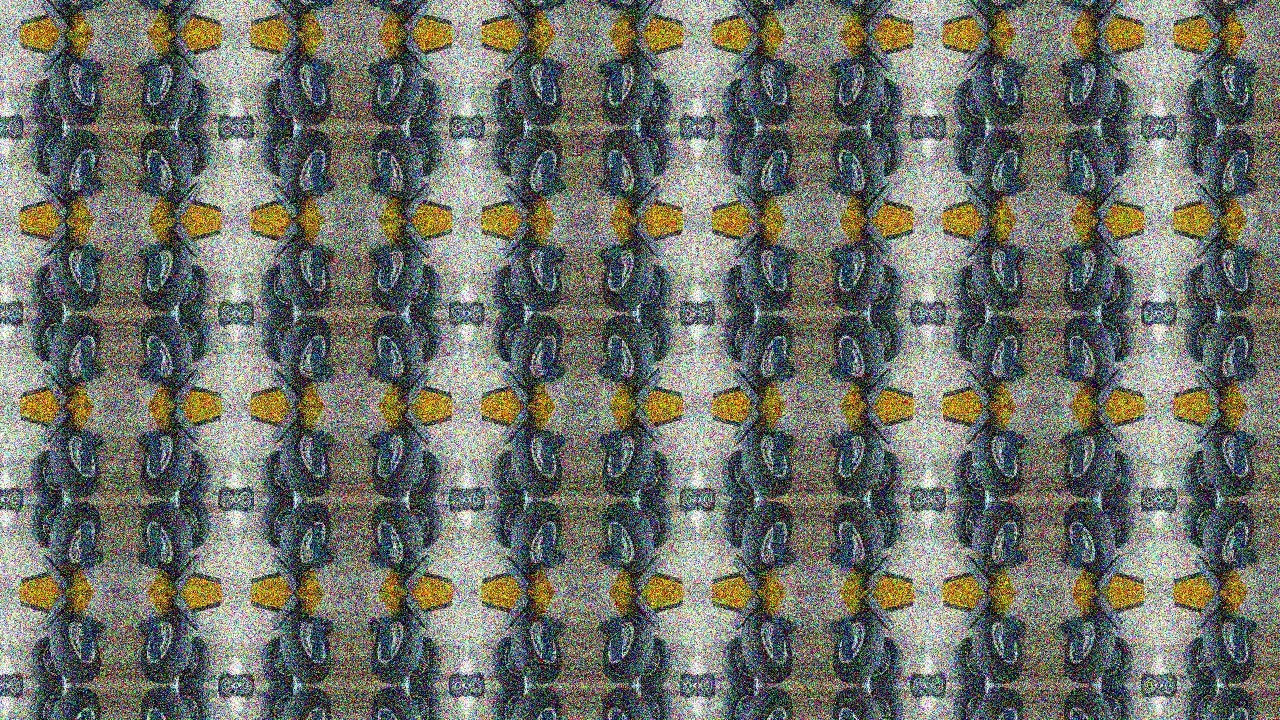chock: (501, 33, 534, 73), (630, 33, 663, 73), (1195, 33, 1228, 73), (501, 180, 534, 220), (630, 180, 663, 220), (1195, 180, 1228, 220), (501, 220, 534, 260), (630, 220, 663, 260), (1195, 220, 1228, 260), (501, 367, 534, 407), (630, 367, 663, 407), (1195, 367, 1228, 407), (501, 407, 534, 447), (630, 407, 663, 447), (1195, 407, 1228, 447), (501, 553, 534, 593), (630, 553, 663, 593), (1195, 553, 1228, 593), (501, 593, 534, 633), (630, 593, 663, 633), (1195, 593, 1228, 633), (39, 33, 71, 73), (168, 33, 200, 73), (270, 33, 302, 73), (399, 33, 431, 73), (733, 33, 765, 73), (862, 33, 894, 73), (964, 33, 996, 73), (1093, 33, 1125, 73), (39, 180, 71, 220), (168, 180, 200, 220), (270, 180, 302, 220), (399, 180, 431, 220), (733, 180, 765, 220), (862, 180, 894, 220), (964, 180, 996, 220), (1093, 180, 1125, 220), (39, 220, 71, 260), (168, 220, 200, 260), (270, 220, 302, 260), (399, 220, 431, 260), (733, 220, 765, 260), (862, 220, 894, 260), (964, 220, 996, 260), (1093, 220, 1125, 260), (39, 367, 71, 407), (168, 367, 200, 407), (270, 367, 302, 407), (399, 367, 431, 407), (733, 367, 765, 407), (862, 367, 894, 407), (964, 367, 996, 407), (1093, 367, 1125, 407), (39, 407, 71, 447), (168, 407, 200, 447), (270, 407, 302, 447), (399, 407, 431, 447), (733, 407, 765, 447), (862, 407, 894, 447), (964, 407, 996, 447), (1093, 407, 1125, 447), (39, 553, 71, 593), (168, 553, 200, 593), (270, 553, 302, 593), (399, 553, 431, 593), (733, 553, 765, 593), (862, 553, 894, 593), (964, 553, 996, 593), (1093, 553, 1125, 593), (39, 593, 71, 633), (168, 593, 200, 633), (270, 593, 302, 633), (399, 593, 431, 633), (733, 593, 765, 633), (862, 593, 894, 633), (964, 593, 996, 633), (1093, 593, 1125, 633), (501, 0, 534, 33), (630, 0, 663, 33), (1195, 0, 1228, 33), (39, 0, 71, 33), (168, 0, 200, 33), (270, 0, 302, 33), (399, 0, 431, 33), (733, 0, 765, 33), (862, 0, 894, 33), (964, 0, 996, 33), (1093, 0, 1125, 33), (80, 60, 103, 81), (367, 60, 390, 81), (543, 60, 566, 81), (598, 60, 621, 81), (774, 60, 797, 81), (1061, 60, 1084, 81), (1237, 60, 1260, 81), (80, 359, 103, 380), (367, 359, 390, 380), (543, 359, 566, 380), (598, 359, 621, 380), (774, 359, 797, 380), (1061, 359, 1084, 380), (1237, 359, 1260, 380), (80, 620, 103, 641), (367, 620, 390, 641), (543, 620, 566, 641), (598, 620, 621, 641), (774, 620, 797, 641), (1061, 620, 1084, 641), (1237, 620, 1260, 641), (136, 60, 158, 81), (312, 60, 334, 81), (830, 60, 852, 81), (1006, 60, 1028, 81), (136, 359, 158, 380), (312, 359, 334, 380), (830, 359, 852, 380), (1006, 359, 1028, 380), (136, 620, 158, 641), (312, 620, 334, 641), (830, 620, 852, 641), (1006, 620, 1028, 641), (80, 173, 103, 193), (367, 173, 390, 193), (543, 173, 566, 193), (598, 173, 621, 193), (774, 173, 797, 193), (1061, 173, 1084, 193), (1237, 173, 1260, 193), (80, 247, 103, 267), (367, 247, 390, 267), (543, 247, 566, 267), (598, 247, 621, 267), (774, 247, 797, 267), (1061, 247, 1084, 267), (1237, 247, 1260, 267), (80, 434, 103, 454), (367, 434, 390, 454), (543, 434, 566, 454), (598, 434, 621, 454), (774, 434, 797, 454), (1061, 434, 1084, 454), (1237, 434, 1260, 454), (80, 546, 103, 566), (367, 546, 390, 566), (543, 546, 566, 566), (598, 546, 621, 566), (774, 546, 797, 566), (1061, 546, 1084, 566), (1237, 546, 1260, 566), (136, 173, 158, 193), (312, 173, 334, 193), (830, 173, 852, 193), (1006, 173, 1028, 193), (136, 247, 158, 267), (312, 247, 334, 267), (830, 247, 852, 267), (1006, 247, 1028, 267), (136, 434, 158, 454), (312, 434, 334, 454), (830, 434, 852, 454), (1006, 434, 1028, 454), (136, 546, 158, 566), (312, 546, 334, 566), (830, 546, 852, 566), (1006, 546, 1028, 566), (80, 0, 103, 6), (367, 0, 390, 6), (543, 0, 566, 6), (598, 0, 621, 6), (774, 0, 797, 6), (1061, 0, 1084, 6), (1237, 0, 1260, 6), (136, 0, 158, 6), (312, 0, 334, 6), (830, 0, 852, 6), (1006, 0, 1028, 6), (0, 132, 4, 139), (466, 132, 470, 139), (694, 132, 698, 139), (1160, 132, 1164, 139), (0, 301, 4, 308), (466, 301, 470, 308), (694, 301, 698, 308), (1160, 301, 1164, 308), (0, 692, 4, 699), (466, 692, 470, 699), (694, 692, 698, 699), (1160, 692, 1164, 699), (0, 115, 4, 121), (466, 115, 470, 121), (694, 115, 698, 121), (1160, 115, 1164, 121), (0, 319, 4, 325), (466, 319, 470, 325), (694, 319, 698, 325), (1160, 319, 1164, 325), (0, 488, 4, 494), (466, 488, 470, 494), (694, 488, 698, 494), (1160, 488, 1164, 494), (0, 506, 4, 512), (466, 506, 470, 512), (694, 506, 698, 512), (1160, 506, 1164, 512), (0, 675, 4, 681), (466, 675, 470, 681), (694, 675, 698, 681), (1160, 675, 1164, 681), (4, 132, 7, 139), (232, 132, 235, 139), (235, 132, 238, 139), (463, 132, 466, 139), (698, 132, 701, 139), (926, 132, 929, 139), (929, 132, 932, 139), (1157, 132, 1160, 139), (4, 301, 7, 308), (232, 301, 235, 308), (235, 301, 238, 308), (463, 301, 466, 308), (698, 301, 701, 308), (926, 301, 929, 308), (929, 301, 932, 308), (1157, 301, 1160, 308), (4, 692, 7, 699), (232, 692, 235, 699), (235, 692, 238, 699), (463, 692, 466, 699), (698, 692, 701, 699), (926, 692, 929, 699), (929, 692, 932, 699), (1157, 692, 1160, 699), (4, 115, 7, 121), (232, 115, 235, 121), (235, 115, 238, 121), (463, 115, 466, 121), (698, 115, 701, 121), (926, 115, 929, 121), (929, 115, 932, 121), (1157, 115, 1160, 121), (4, 319, 7, 325), (232, 319, 235, 325), (235, 319, 238, 325), (463, 319, 466, 325), (698, 319, 701, 325), (926, 319, 929, 325), (929, 319, 932, 325), (1157, 319, 1160, 325), (4, 488, 7, 494), (232, 488, 235, 494), (235, 488, 238, 494), (463, 488, 466, 494), (698, 488, 701, 494), (926, 488, 929, 494), (929, 488, 932, 494), (1157, 488, 1160, 494), (4, 506, 7, 512), (232, 506, 235, 512), (235, 506, 238, 512), (463, 506, 466, 512), (698, 506, 701, 512), (926, 506, 929, 512), (929, 506, 932, 512), (1157, 506, 1160, 512), (4, 675, 7, 681), (232, 675, 235, 681), (235, 675, 238, 681), (463, 675, 466, 681), (698, 675, 701, 681), (926, 675, 929, 681), (929, 675, 932, 681), (1157, 675, 1160, 681)
wheel: (48, 426, 102, 498), (368, 426, 422, 498), (742, 426, 796, 498), (1062, 426, 1116, 498), (48, 502, 102, 574), (368, 502, 422, 574), (742, 502, 796, 574), (1062, 502, 1116, 574), (48, 53, 102, 124), (368, 53, 422, 124), (742, 53, 796, 124), (1062, 53, 1116, 124), (48, 129, 102, 200), (368, 129, 422, 200), (742, 129, 796, 200), (1062, 129, 1116, 200), (48, 240, 102, 311), (368, 240, 422, 311), (742, 240, 796, 311), (1062, 240, 1116, 311), (48, 316, 102, 387), (368, 316, 422, 387), (742, 316, 796, 387), (1062, 316, 1116, 387), (48, 613, 102, 684), (368, 613, 422, 684), (742, 613, 796, 684), (1062, 613, 1116, 684), (137, 426, 190, 498), (280, 426, 333, 498), (511, 426, 564, 498), (600, 426, 653, 498), (831, 426, 884, 498), (974, 426, 1027, 498), (1205, 426, 1258, 498), (137, 502, 190, 574), (280, 502, 333, 574), (511, 502, 564, 574), (600, 502, 653, 574), (831, 502, 884, 574), (974, 502, 1027, 574), (1205, 502, 1258, 574), (137, 53, 190, 124), (280, 53, 333, 124), (511, 53, 564, 124), (600, 53, 653, 124), (831, 53, 884, 124), (974, 53, 1027, 124), (1205, 53, 1258, 124), (137, 129, 190, 200), (280, 129, 333, 200), (511, 129, 564, 200), (600, 129, 653, 200), (831, 129, 884, 200), (974, 129, 1027, 200), (1205, 129, 1258, 200), (137, 240, 190, 311), (280, 240, 333, 311), (511, 240, 564, 311), (600, 240, 653, 311), (831, 240, 884, 311), (974, 240, 1027, 311), (1205, 240, 1258, 311), (137, 316, 190, 387), (280, 316, 333, 387), (511, 316, 564, 387), (600, 316, 653, 387), (831, 316, 884, 387), (974, 316, 1027, 387), (1205, 316, 1258, 387), (137, 613, 190, 684), (280, 613, 333, 684), (511, 613, 564, 684), (600, 613, 653, 684), (831, 613, 884, 684), (974, 613, 1027, 684), (1205, 613, 1258, 684), (174, 77, 211, 127), (259, 77, 296, 127), (490, 77, 527, 127), (637, 77, 674, 127), (868, 77, 905, 127), (953, 77, 990, 127), (1184, 77, 1221, 127), (174, 127, 211, 177), (259, 127, 296, 177), (490, 127, 527, 177), (637, 127, 674, 177), (868, 127, 905, 177), (953, 127, 990, 177), (1184, 127, 1221, 177), (174, 263, 211, 313), (259, 263, 296, 313), (490, 263, 527, 313), (637, 263, 674, 313), (868, 263, 905, 313), (953, 263, 990, 313), (1184, 263, 1221, 313), (174, 313, 211, 363), (259, 313, 296, 363), (490, 313, 527, 363), (637, 313, 674, 363), (868, 313, 905, 363), (953, 313, 990, 363), (1184, 313, 1221, 363), (174, 450, 211, 500), (259, 450, 296, 500), (490, 450, 527, 500), (637, 450, 674, 500), (868, 450, 905, 500), (953, 450, 990, 500), (1184, 450, 1221, 500), (174, 500, 211, 550), (259, 500, 296, 550), (490, 500, 527, 550), (637, 500, 674, 550), (868, 500, 905, 550), (953, 500, 990, 550), (1184, 500, 1221, 550), (174, 637, 211, 687), (259, 637, 296, 687), (490, 637, 527, 687), (637, 637, 674, 687), (868, 637, 905, 687), (953, 637, 990, 687), (1184, 637, 1221, 687), (28, 77, 64, 127), (406, 77, 442, 127), (722, 77, 758, 127), (1100, 77, 1136, 127), (28, 127, 64, 177), (406, 127, 442, 177), (722, 127, 758, 177), (1100, 127, 1136, 177), (28, 263, 64, 313), (406, 263, 442, 313), (722, 263, 758, 313), (1100, 263, 1136, 313), (28, 313, 64, 363), (406, 313, 442, 363), (722, 313, 758, 363), (1100, 313, 1136, 363), (28, 450, 64, 500), (406, 450, 442, 500), (722, 450, 758, 500), (1100, 450, 1136, 500), (28, 500, 64, 550), (406, 500, 442, 550), (722, 500, 758, 550), (1100, 500, 1136, 550), (28, 637, 64, 687), (406, 637, 442, 687), (722, 637, 758, 687), (1100, 637, 1136, 687), (48, 689, 102, 720), (368, 689, 422, 720), (742, 689, 796, 720), (1062, 689, 1116, 720), (137, 689, 190, 720), (280, 689, 333, 720), (511, 689, 564, 720), (600, 689, 653, 720), (831, 689, 884, 720), (974, 689, 1027, 720), (1205, 689, 1258, 720), (174, 687, 211, 720), (259, 687, 296, 720), (490, 687, 527, 720), (637, 687, 674, 720), (868, 687, 905, 720), (953, 687, 990, 720), (1184, 687, 1221, 720), (28, 687, 64, 720), (406, 687, 442, 720), (722, 687, 758, 720), (1100, 687, 1136, 720), (48, 0, 102, 14), (368, 0, 422, 14), (742, 0, 796, 14), (1062, 0, 1116, 14), (137, 0, 190, 14), (280, 0, 333, 14), (511, 0, 564, 14), (600, 0, 653, 14), (831, 0, 884, 14), (974, 0, 1027, 14), (1205, 0, 1258, 14), (216, 115, 235, 127), (235, 115, 254, 127), (466, 115, 485, 127), (679, 115, 698, 127), (910, 115, 929, 127), (929, 115, 948, 127), (1160, 115, 1179, 127), (216, 127, 235, 139), (235, 127, 254, 139), (466, 127, 485, 139), (679, 127, 698, 139), (910, 127, 929, 139), (929, 127, 948, 139), (1160, 127, 1179, 139), (216, 301, 235, 313), (235, 301, 254, 313), (466, 301, 485, 313), (679, 301, 698, 313), (910, 301, 929, 313), (929, 301, 948, 313), (1160, 301, 1179, 313), (216, 313, 235, 325), (235, 313, 254, 325), (466, 313, 485, 325), (679, 313, 698, 325), (910, 313, 929, 325), (929, 313, 948, 325), (1160, 313, 1179, 325), (216, 488, 235, 500), (235, 488, 254, 500), (466, 488, 485, 500), (679, 488, 698, 500), (910, 488, 929, 500), (929, 488, 948, 500), (1160, 488, 1179, 500), (216, 500, 235, 512), (235, 500, 254, 512), (466, 500, 485, 512), (679, 500, 698, 512), (910, 500, 929, 512), (929, 500, 948, 512), (1160, 500, 1179, 512), (216, 675, 235, 687), (235, 675, 254, 687), (466, 675, 485, 687), (679, 675, 698, 687), (910, 675, 929, 687), (929, 675, 948, 687), (1160, 675, 1179, 687), (216, 687, 235, 699), (235, 687, 254, 699), (466, 687, 485, 699), (679, 687, 698, 699), (910, 687, 929, 699), (929, 687, 948, 699), (1160, 687, 1179, 699), (4, 115, 22, 127), (448, 115, 466, 127), (698, 115, 716, 127), (1142, 115, 1160, 127), (4, 127, 22, 139), (448, 127, 466, 139), (698, 127, 716, 139), (1142, 127, 1160, 139), (4, 301, 22, 313), (448, 301, 466, 313), (698, 301, 716, 313), (1142, 301, 1160, 313), (4, 313, 22, 325), (448, 313, 466, 325), (698, 313, 716, 325), (1142, 313, 1160, 325), (4, 488, 22, 500), (448, 488, 466, 500), (698, 488, 716, 500), (1142, 488, 1160, 500), (4, 500, 22, 512), (448, 500, 466, 512), (698, 500, 716, 512), (1142, 500, 1160, 512), (4, 675, 22, 687), (448, 675, 466, 687), (698, 675, 716, 687), (1142, 675, 1160, 687), (4, 687, 22, 699), (448, 687, 466, 699), (698, 687, 716, 699), (1142, 687, 1160, 699), (0, 115, 4, 127), (0, 127, 4, 139), (0, 301, 4, 313), (0, 313, 4, 325), (0, 488, 4, 500), (0, 500, 4, 512), (0, 675, 4, 687), (0, 687, 4, 699)
